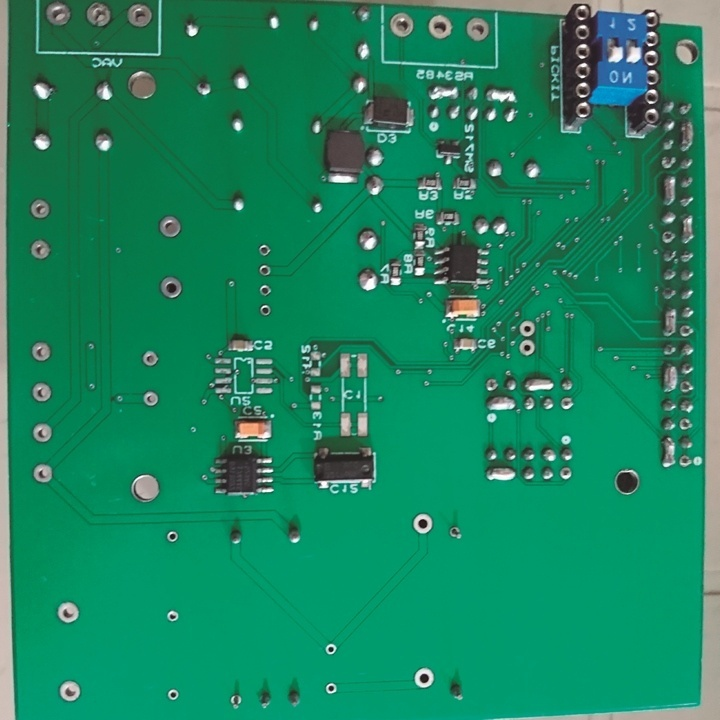F: (426, 10, 455, 42), (387, 10, 416, 40), (84, 2, 112, 30), (42, 3, 73, 28), (126, 3, 153, 31), (56, 598, 82, 627), (464, 14, 489, 43), (413, 666, 437, 695), (157, 214, 183, 240), (158, 275, 184, 300), (58, 677, 82, 703), (410, 512, 436, 536), (30, 419, 53, 445), (29, 379, 52, 404), (31, 463, 54, 486), (30, 238, 52, 262), (29, 195, 50, 220), (30, 338, 51, 363), (447, 520, 466, 543), (141, 349, 161, 369), (517, 319, 536, 338), (141, 390, 159, 410), (660, 152, 678, 171), (519, 338, 536, 357), (678, 378, 695, 396), (679, 322, 697, 339), (558, 464, 574, 483), (230, 692, 244, 712), (560, 394, 575, 412), (660, 229, 678, 244), (323, 640, 337, 658), (677, 416, 695, 430), (258, 302, 273, 318), (677, 452, 692, 468), (484, 377, 499, 392), (165, 529, 179, 545), (259, 260, 273, 276), (324, 680, 337, 696), (165, 689, 179, 703), (166, 609, 179, 623), (259, 283, 271, 298), (259, 243, 271, 256)
P: (483, 393, 514, 415), (661, 172, 679, 208), (660, 433, 676, 473), (661, 360, 679, 394), (486, 86, 518, 105), (524, 374, 554, 393), (485, 466, 518, 483), (679, 120, 696, 152), (680, 212, 696, 246), (427, 83, 459, 100), (664, 303, 678, 339)
